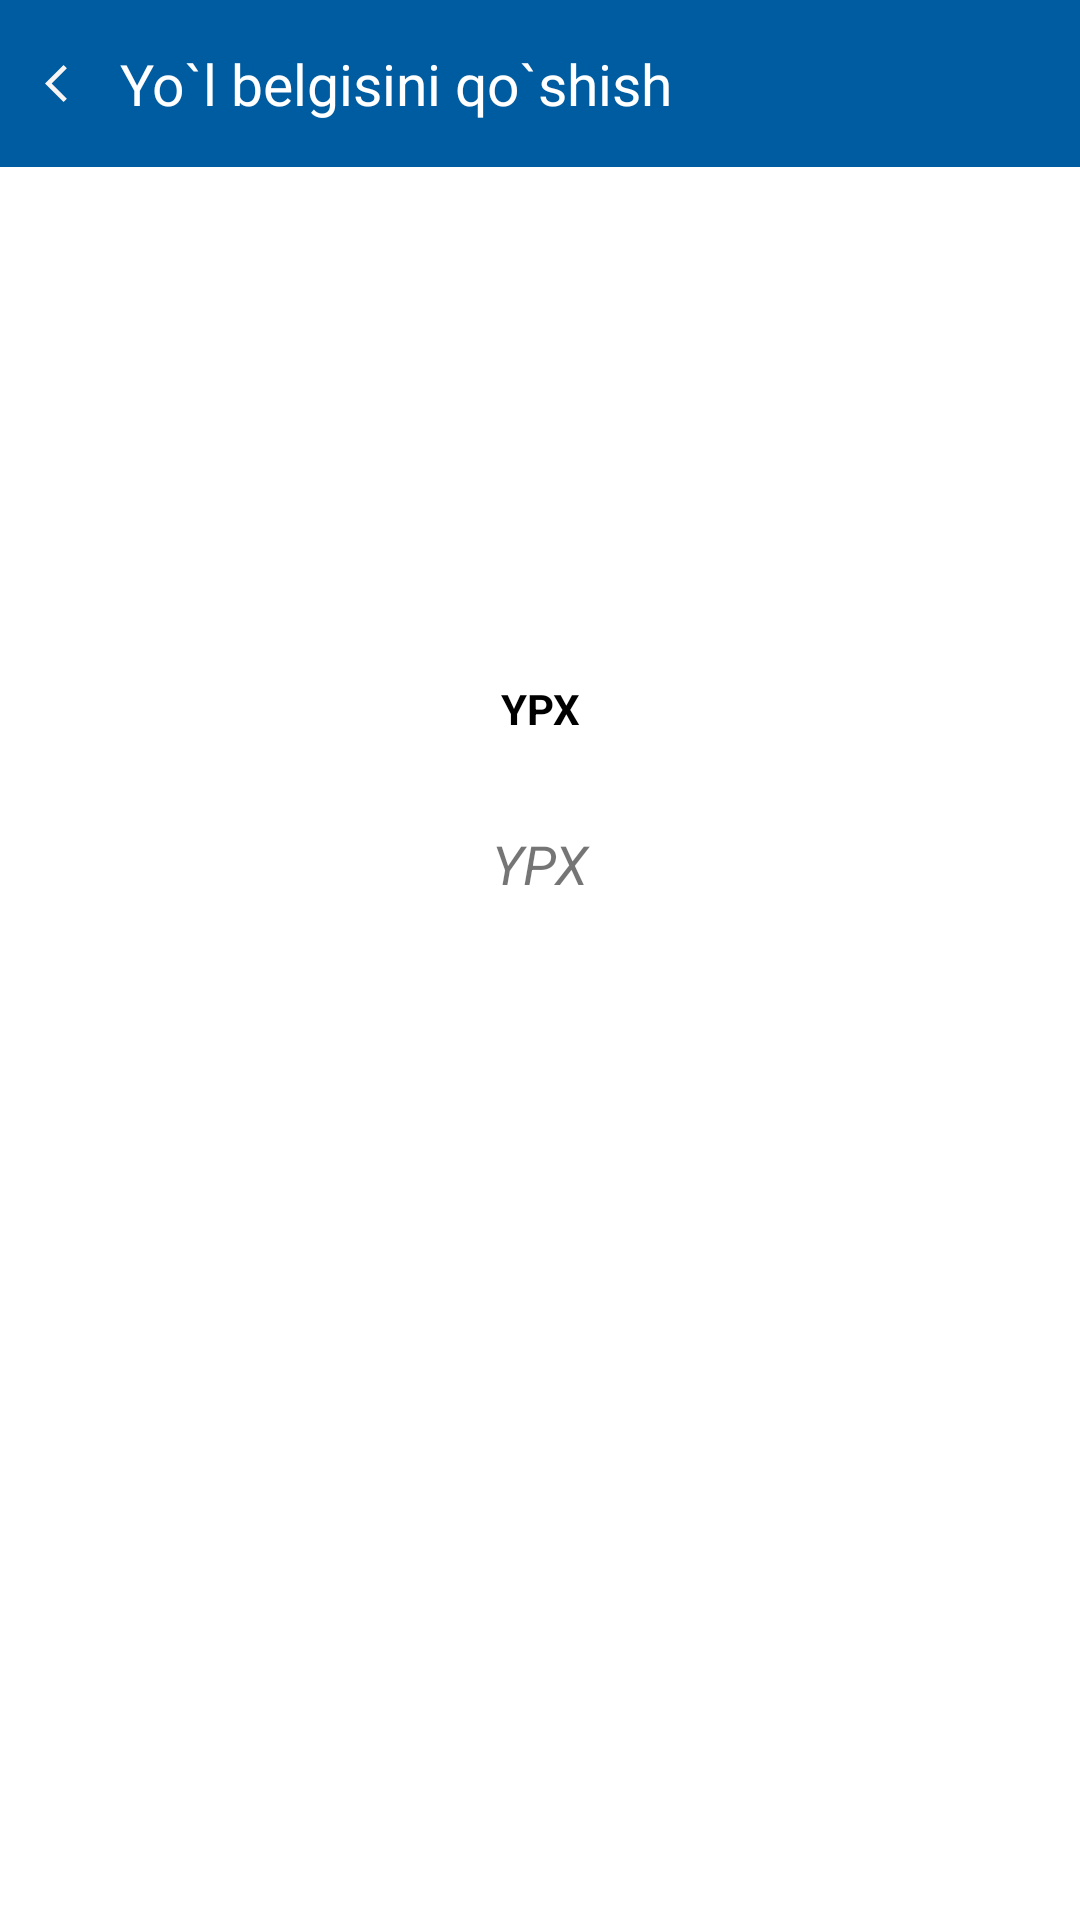

Named icons in this screenshot (1080 x 1920) and their centers, (x=x, y=y):
arrow back: (x=56, y=83)
